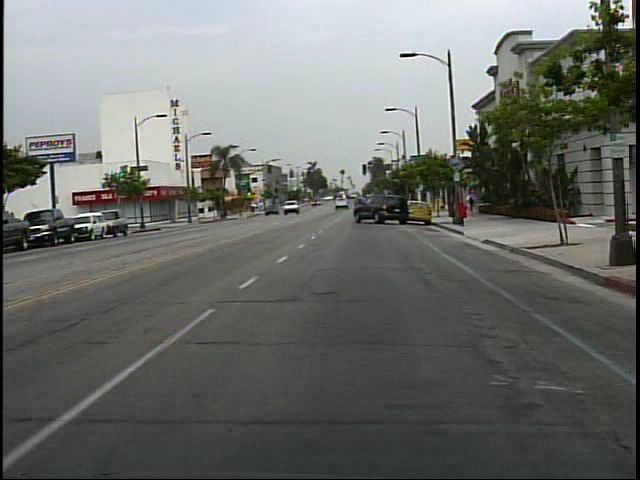person: (466, 188, 480, 218)
